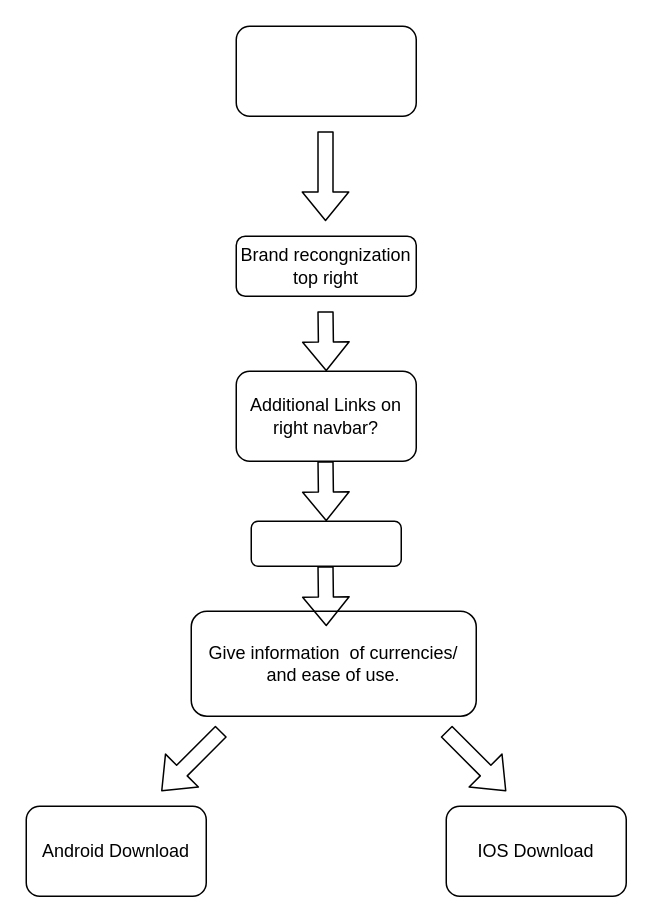
Image size: 653x923. Some labels were removed from this diagram. Each missing label, with the centre of its shape:
"search option for currencies" belongs at point 325,543.
"Start Opens the page" belongs at point 325,70.
